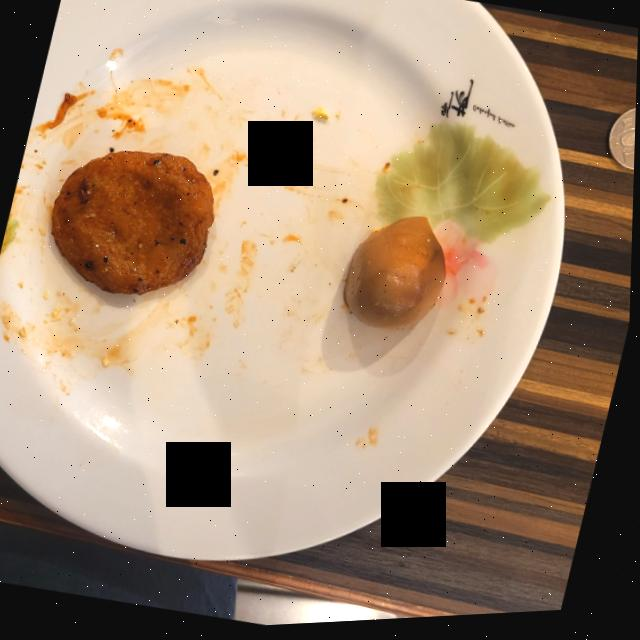coin: (609, 115, 637, 176)
fish cake: (52, 152, 215, 296)
soy egg: (345, 221, 448, 333)
